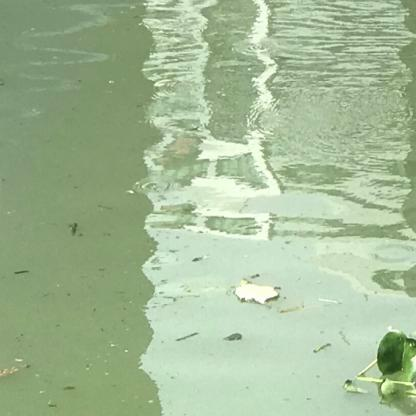Trash: (232, 271, 280, 311)
